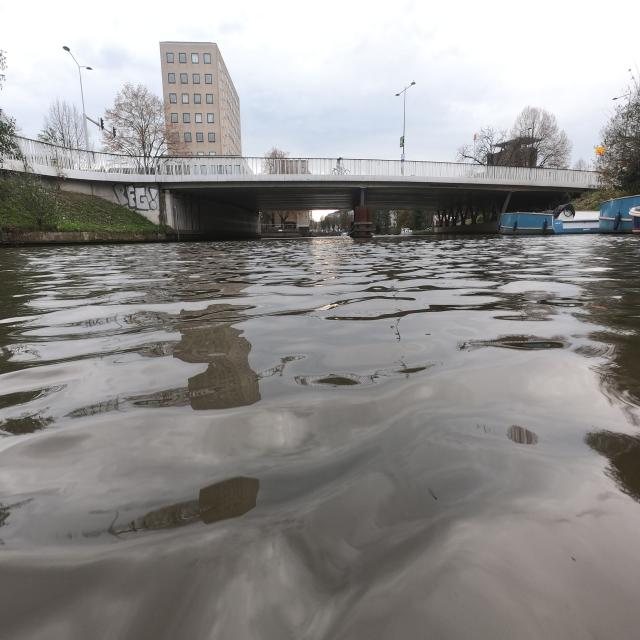boat: (499, 204, 604, 235), (614, 213, 631, 232)
dock: (0, 230, 169, 245)
grass: (1, 180, 155, 234)
sky: (0, 6, 638, 158)
wall: (162, 192, 260, 239)
water: (0, 237, 638, 639)
